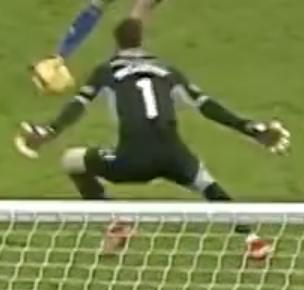ball: (25, 51, 80, 100)
goalkeeper: (9, 6, 291, 279)
